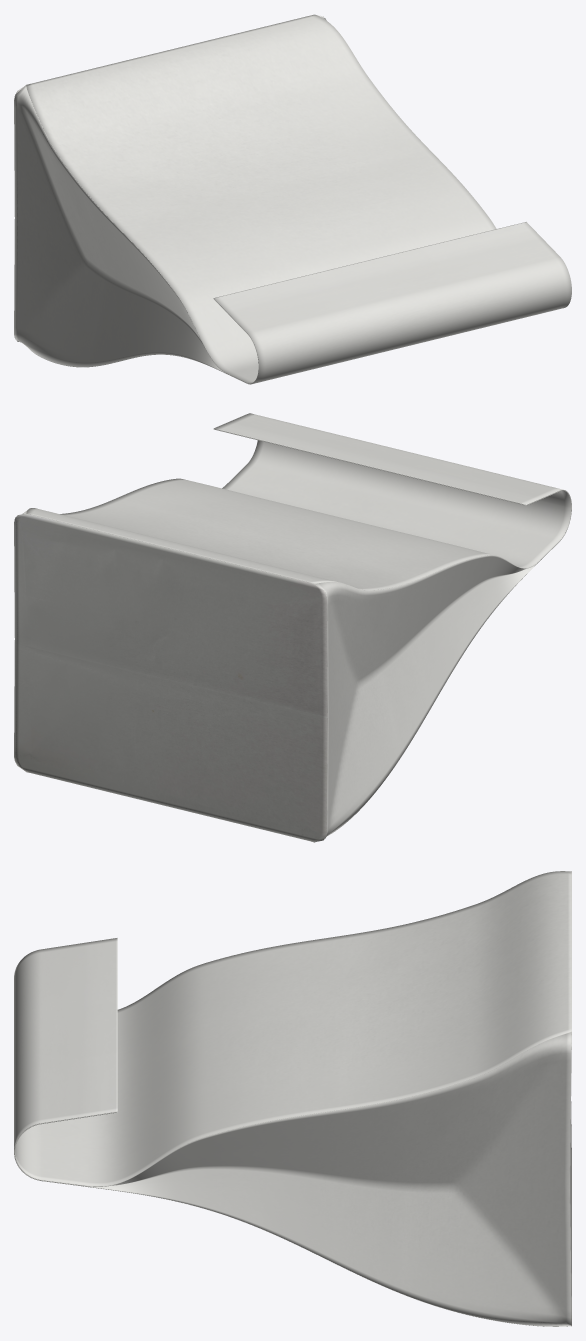
Rendered from opaque_envelope.obj.
3 renders of one model, top to bottom at view 1: azimuth 30°, elevation 25°; view 2: azimuth 150°, elevation 25°; view 3: azimuth 270°, elevation 25°, orthographic. The views are drawn at different scales.
Parts seen in each view (by area): view 1: Breadbag; view 2: Breadbag; view 3: Breadbag.
Boxes of the visible parts, left/top/right/bottom form: Breadbag: left=14, top=14, right=571, bottom=384; Breadbag: left=14, top=413, right=571, bottom=842; Breadbag: left=14, top=871, right=571, bottom=1326.
Size of the model in its own units: 0.1284 by 0.1012 by 0.1738.
1 material, 1 textured.
